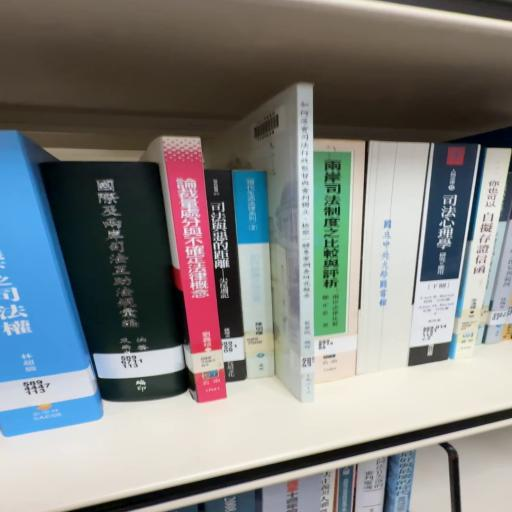backward: (357, 142, 432, 376)
book: (40, 163, 191, 408), (146, 135, 234, 405), (409, 145, 483, 371), (312, 141, 368, 339), (232, 167, 274, 387)
